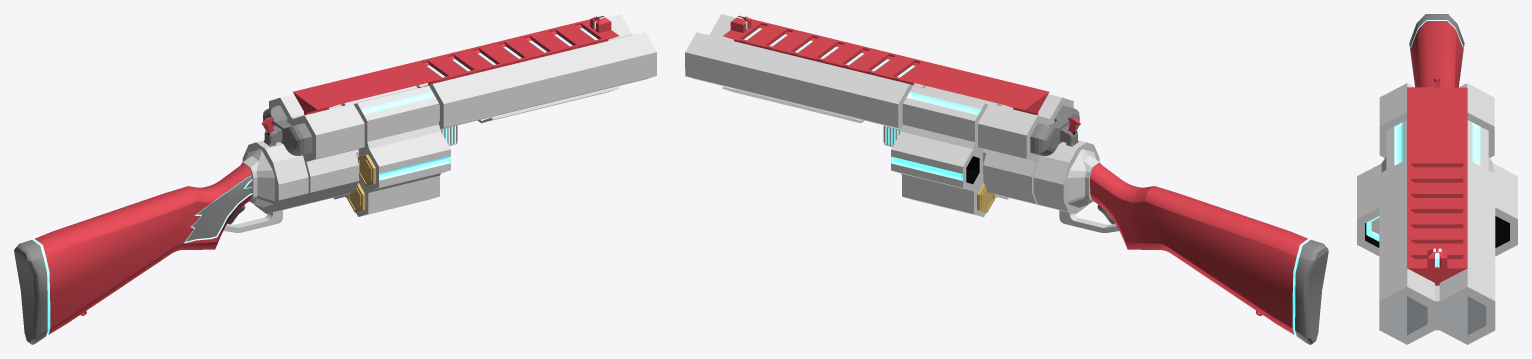
File: shotgun_msi.fbx
3 views of the same model, side by side, from view 1: azimuth 30°, elevation 25°; view 2: azimuth 150°, elevation 25°; view 3: azimuth 270°, elevation 25° (orthographic). The views are drawn at different scales.
Parts seen in each view (by area): view 1: Remington870.001, Cercle.001, Cercle, Cercle.008, Cercle.002, Cercle.007, Cercle.003, Cercle.009; view 2: Remington870.001, Cercle.001, Cercle, Cercle.008, Cercle.002, Cercle.007, Cercle.003, Cercle.009; view 3: Cercle.001, Cercle.008, Cercle, Remington870.001, Cercle.002, Cercle.012.
Part boxes in pixels (x1,y1,x2,y2): Remington870.001: (14, 163, 252, 344); Cercle.001: (416, 14, 656, 129); Cercle: (333, 86, 450, 216); Cercle.008: (293, 15, 618, 115); Cercle.002: (269, 94, 364, 205); Cercle.007: (223, 140, 308, 232); Cercle.003: (261, 105, 312, 155); Cercle.009: (477, 86, 619, 123); Remington870.001: (1090, 163, 1328, 344); Cercle.001: (685, 14, 925, 129); Cercle: (891, 86, 1008, 217); Cercle.008: (723, 15, 1049, 114); Cercle.002: (978, 94, 1073, 206); Cercle.007: (1033, 140, 1119, 232); Cercle.003: (1030, 105, 1080, 156); Cercle.009: (722, 86, 864, 123); Cercle.001: (1379, 159, 1495, 344); Cercle.008: (1407, 87, 1467, 285); Cercle: (1357, 120, 1517, 256); Remington870.001: (1409, 14, 1464, 87); Cercle.002: (1379, 83, 1494, 157); Cercle.012: (1366, 216, 1379, 241).
Size of the model in its own units: 3065 by 892 by 568.
